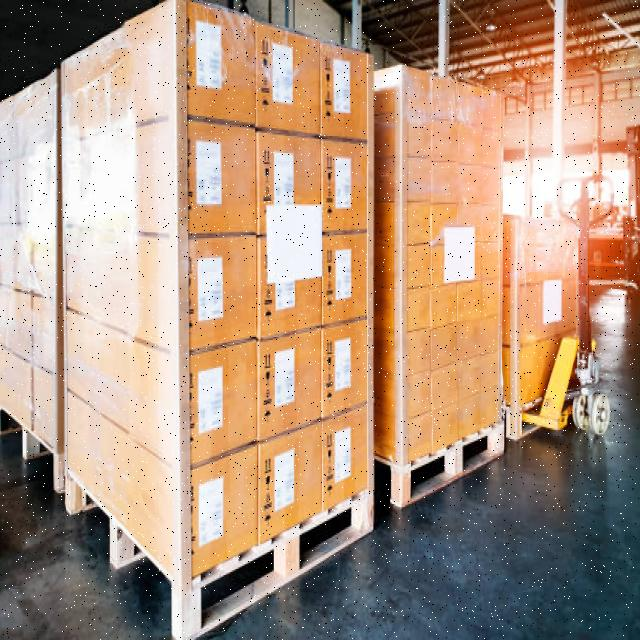Wooden-Pallets: (59, 450, 390, 640), (390, 411, 523, 543)
